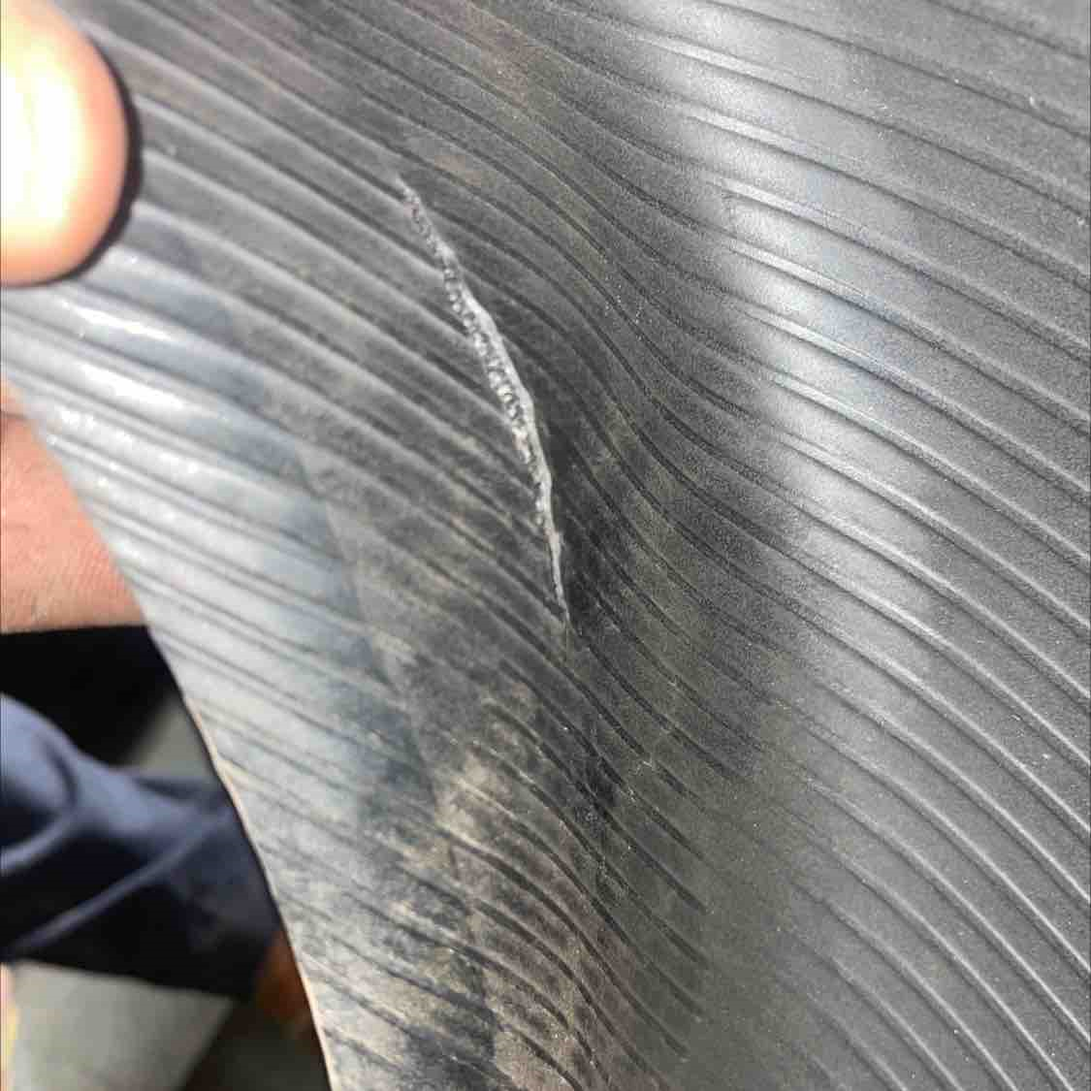cut: (403, 195, 571, 636)
